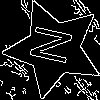N: (29, 23, 82, 69)
